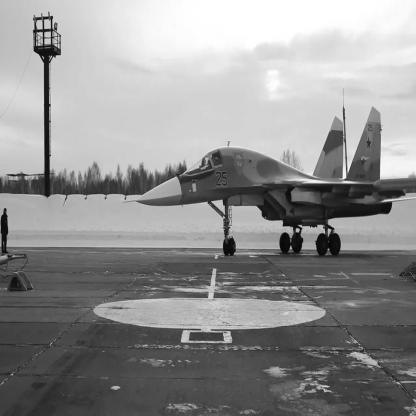Su34: (123, 106, 416, 258)
